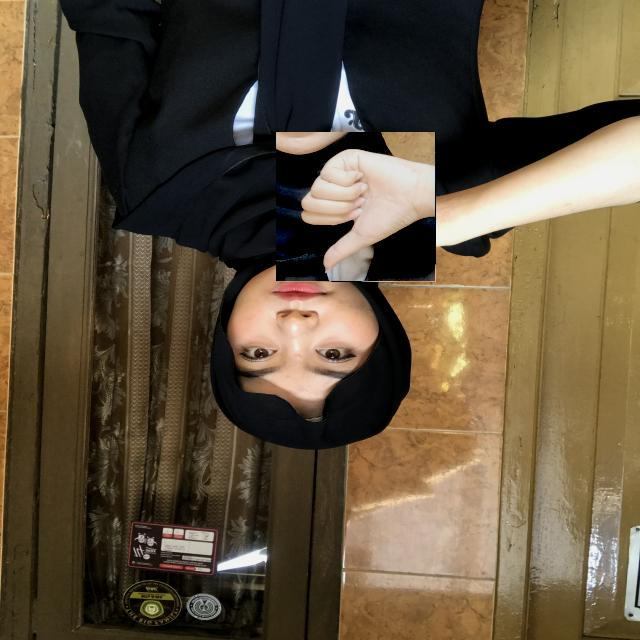sedih: (276, 132, 436, 282)
